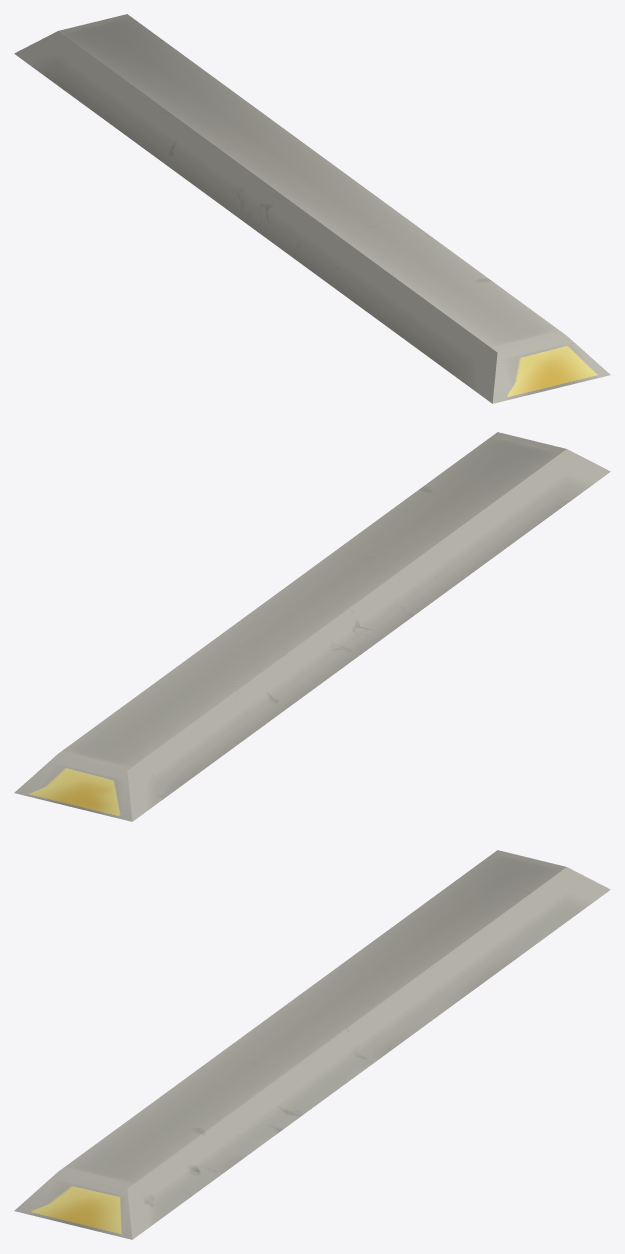
Rendered from Prop_RoadDividerPlatic_01.FBX.
3 views of the same model, one above another, from view 1: azimuth 30°, elevation 25°; view 2: azimuth 150°, elevation 25°; view 3: azimuth 330°, elevation 25° (orthographic).
Visible parts, largest first — view 1: Prop_RoadDividerPlatic_01; view 2: Prop_RoadDividerPlatic_01; view 3: Prop_RoadDividerPlatic_01.
Boxes of the visible parts, x1,y1,x2,y2 form: Prop_RoadDividerPlatic_01: (14,14,610,403); Prop_RoadDividerPlatic_01: (14,432,610,821); Prop_RoadDividerPlatic_01: (14,850,610,1239).
Size of the model in its own units: 20 by 5 by 140.
Materials: 1 (1 with a texture image).
